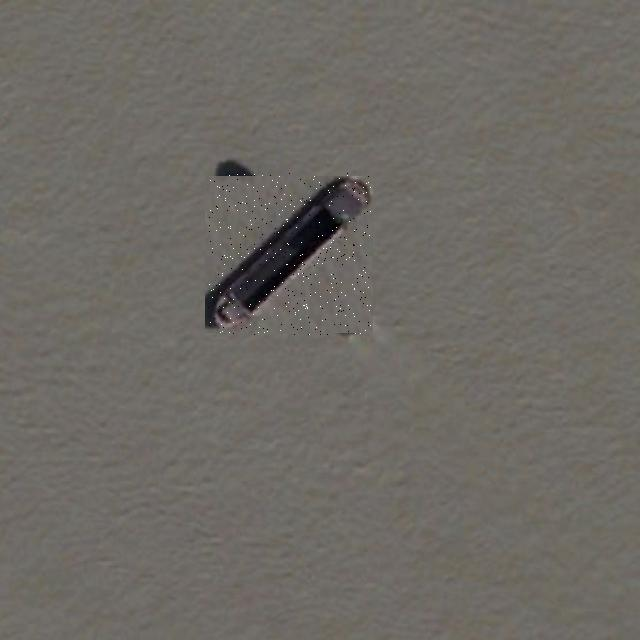boat: (207, 173, 371, 335)
